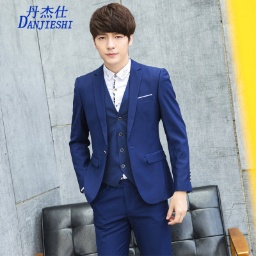face: (89, 2, 137, 64)
